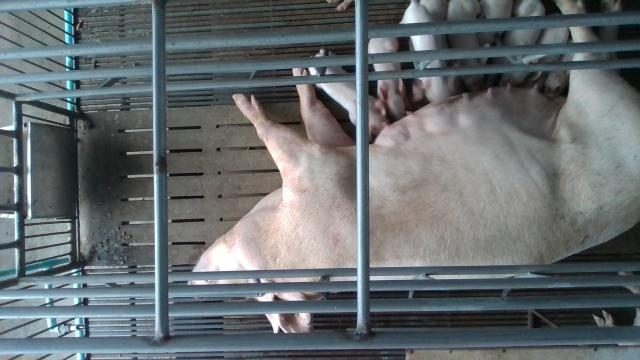piglet: (311, 51, 390, 135), (399, 1, 449, 100), (445, 1, 490, 92), (498, 0, 544, 86), (368, 38, 407, 123), (527, 16, 570, 85), (544, 39, 575, 98), (481, 0, 514, 41)
sow-sleep-lactate: (189, 0, 640, 333)
